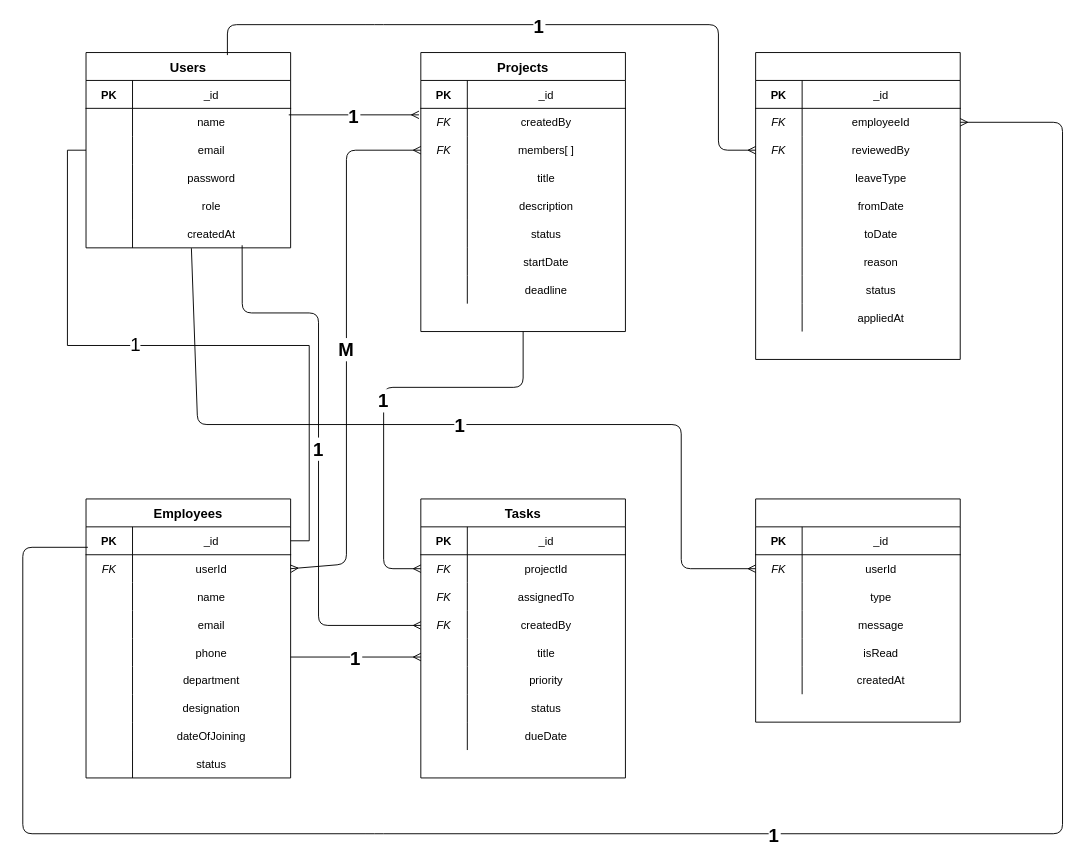
This 1086x861 diagram has some shape labels left out. Here are the shapes that lost their labels. From the top down, the box of each, then its label:
(755, 52, 960, 359): Leave Requests
(755, 498, 960, 722): Notifications
